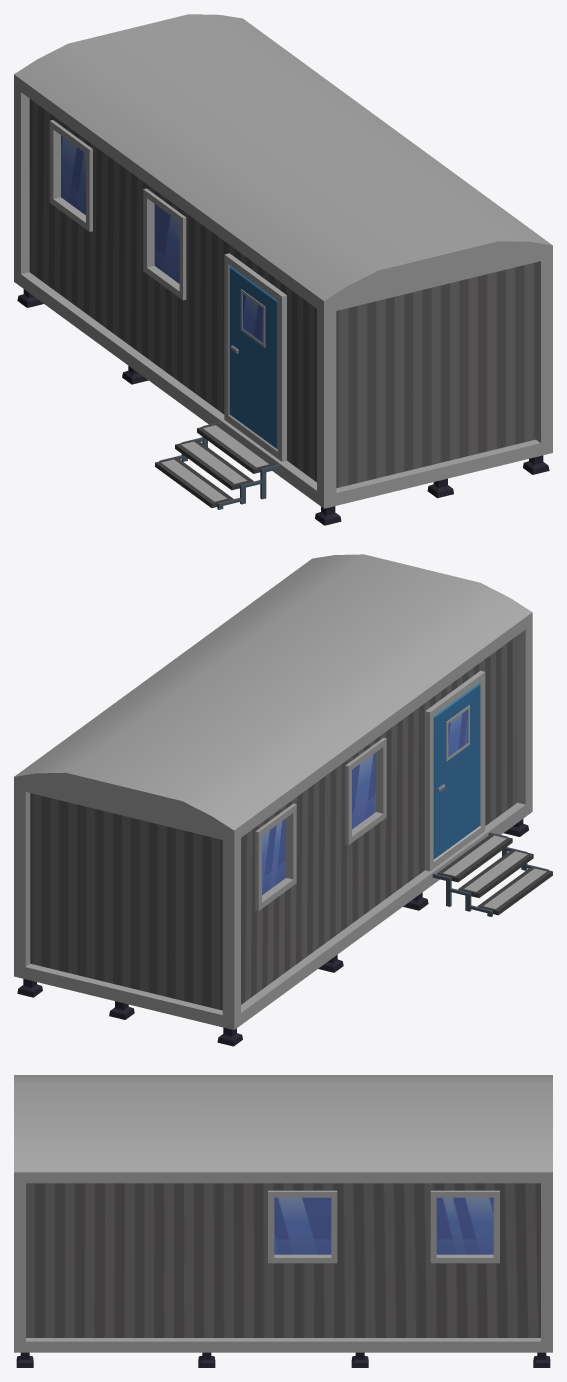
Rendered from TrailerC_1_B.fbx.
3 views of the same model, one above another, from view 1: azimuth 30°, elevation 25°; view 2: azimuth 150°, elevation 25°; view 3: azimuth 270°, elevation 25° (orthographic). The views are drawn at different scales.
Visible parts, largest first — view 1: TrailerC_1_B; view 2: TrailerC_1_B; view 3: TrailerC_1_B.
Part boxes in pixels (<box>): TrailerC_1_B: <box>14,14,552,525</box>; TrailerC_1_B: <box>14,554,552,1046</box>; TrailerC_1_B: <box>14,1075,552,1367</box>.
Bounding box in the file's own units: 330 × 260 × 599.
